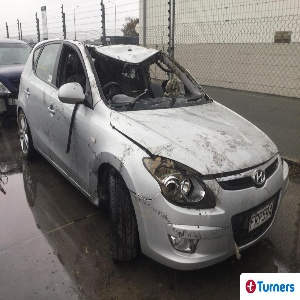bonnet: (148, 107, 268, 165)
bumper_scratch: (131, 204, 232, 240)
